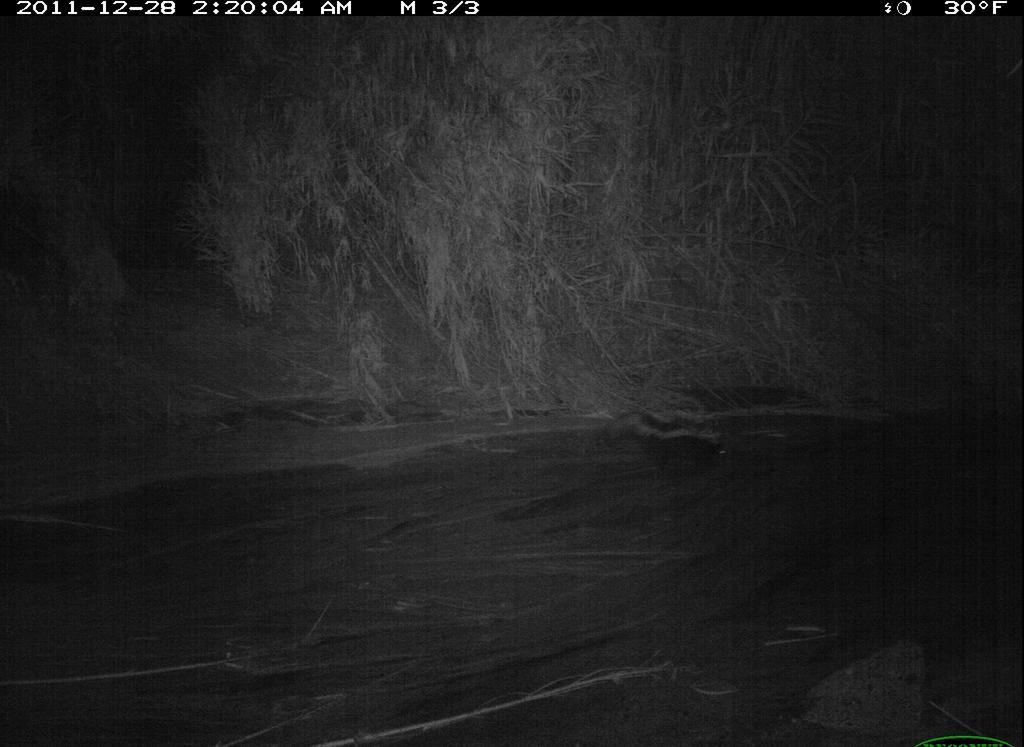skunk: (595, 402, 742, 485)
